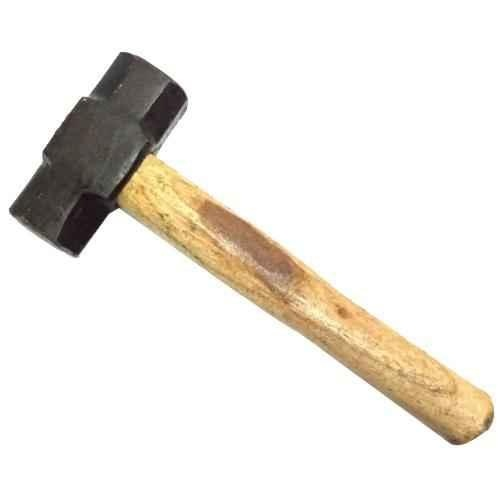hammer: (7, 50, 497, 449)
